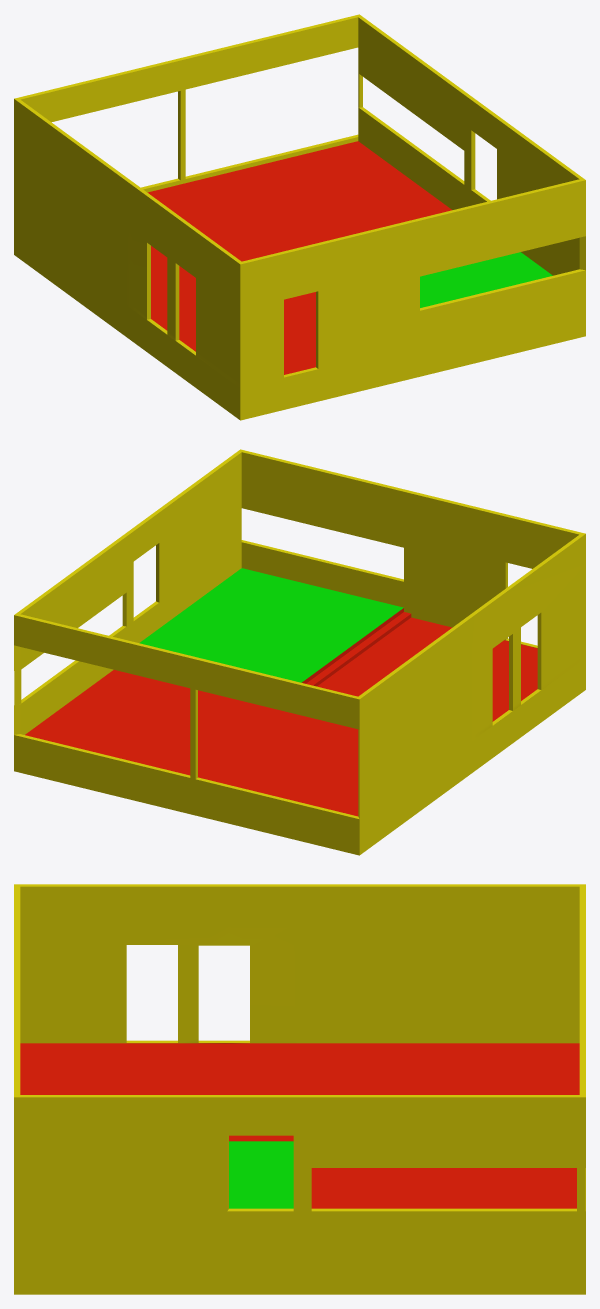
Rendered from Huis 1.fbx.
3 views of the same model, one above another, from view 1: azimuth 30°, elevation 25°; view 2: azimuth 150°, elevation 25°; view 3: azimuth 270°, elevation 25° (orthographic). The views are drawn at different scales.
Visible parts, largest first — view 1: pCube24; view 2: pCube24, pCube25; view 3: pCube24.
Boxes of the visible parts, box(x1,y1,x2,y2) form: pCube24: box(14, 14, 585, 420); pCube24: box(14, 449, 585, 855); pCube25: box(14, 645, 21, 734); pCube24: box(14, 884, 585, 1294).
Bounding box in the file's own units: 11.23 × 4.85 × 12.74.
